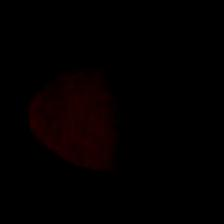fertile: (25, 63, 172, 173)
